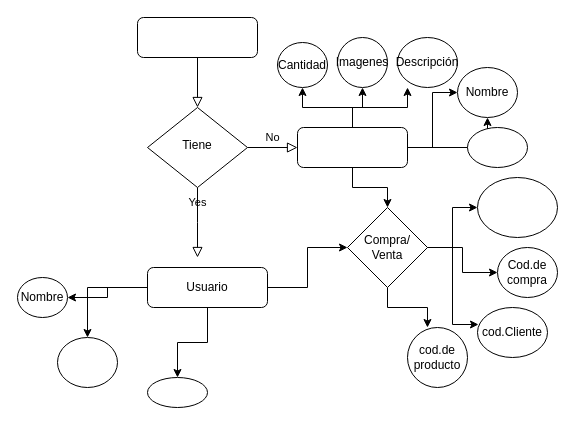
This 586x425 diagram has some shape labels left out. The centre of each missing label's shape, as x and y in pixels:
"Costo" belongs at [497,147].
"Email" belongs at [177,392].
"Fecha de compra/publicación" belongs at [517,207].
"Productos" belongs at [352,147].
"Teléfono" belongs at [87,362].
"Tienda online" belongs at [197,37].
